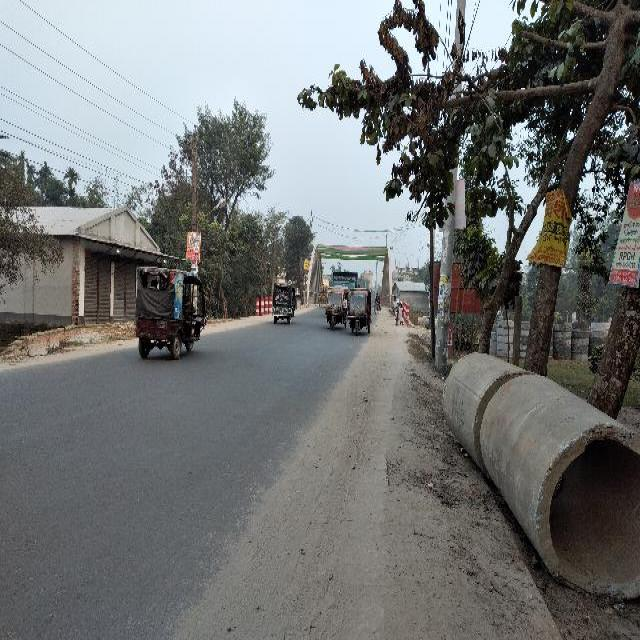bike: (375, 300, 381, 315)
vehicle: (133, 265, 203, 361), (349, 289, 373, 337), (326, 286, 348, 332), (274, 284, 297, 326), (332, 270, 360, 287), (319, 285, 327, 306)
